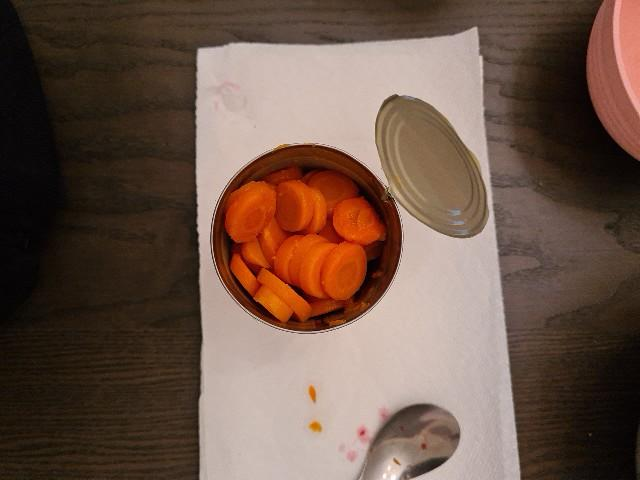kichen waste: (222, 169, 384, 319)
